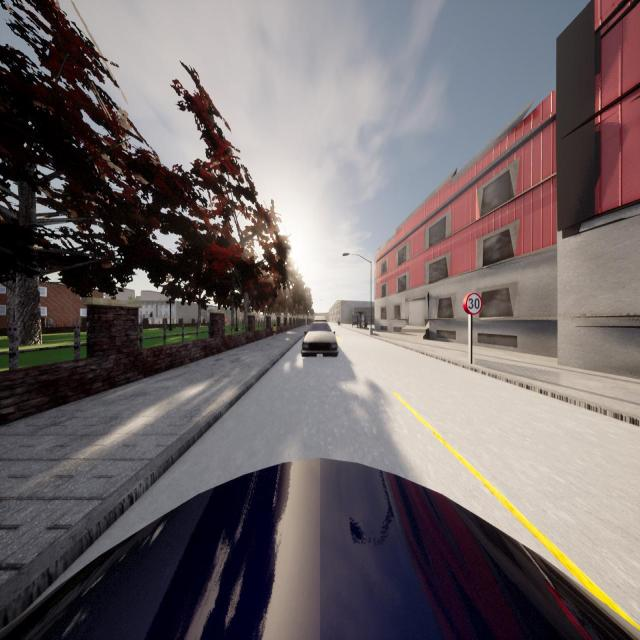Pedestrian: (272, 324, 276, 337)
Traffic_Signs: (463, 292, 483, 315)
Vehicle: (0, 459, 640, 639), (302, 321, 338, 356), (314, 316, 327, 322)
